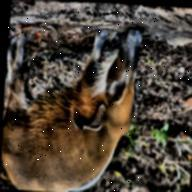boar: (0, 19, 144, 192)
